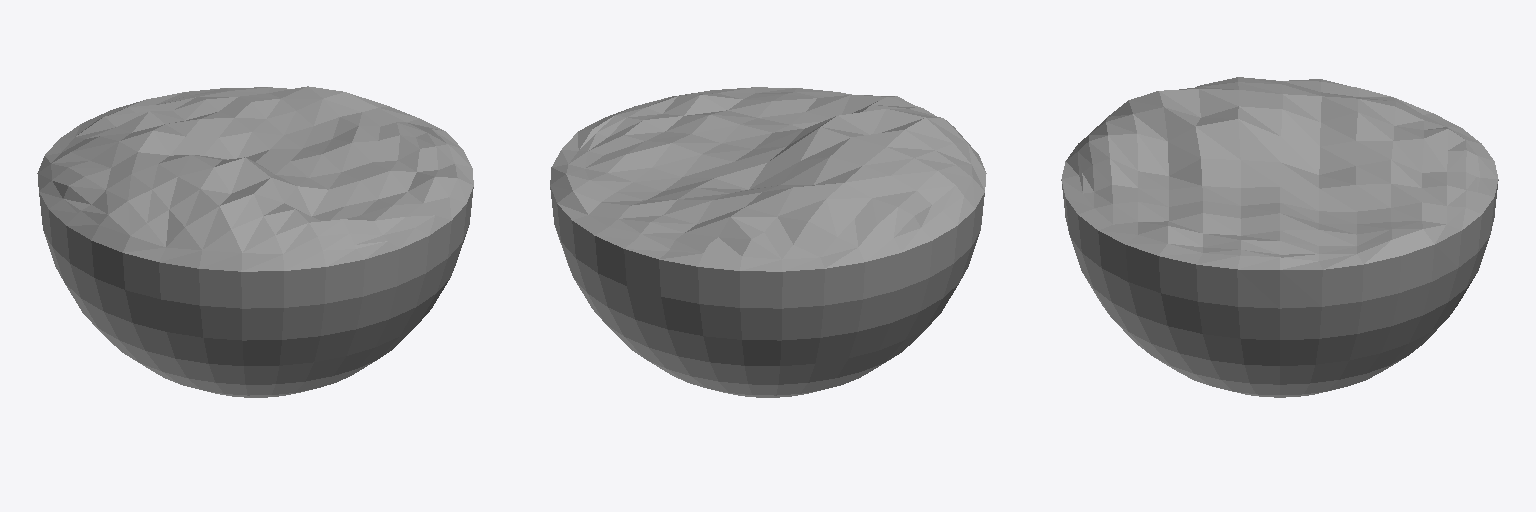
Rendered from snow.obj.
3 views of the same model, side by side, from view 1: azimuth 30°, elevation 25°; view 2: azimuth 150°, elevation 25°; view 3: azimuth 270°, elevation 25° (orthographic).
Visible parts, largest first — view 1: Sphere_Sphere.002; view 2: Sphere_Sphere.002; view 3: Sphere_Sphere.002.
Boxes of the visible parts, x1=… form: Sphere_Sphere.002: x1=37, y1=86, x2=473, y2=397; Sphere_Sphere.002: x1=550, y1=87, x2=986, y2=397; Sphere_Sphere.002: x1=1061, y1=77, x2=1498, y2=397.
Size of the model in its own units: 2 by 1.23 by 2.